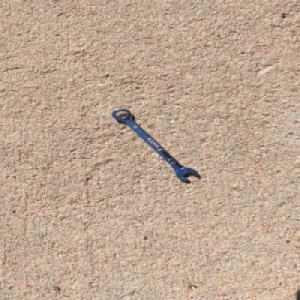Wrench: (110, 108, 200, 181)
